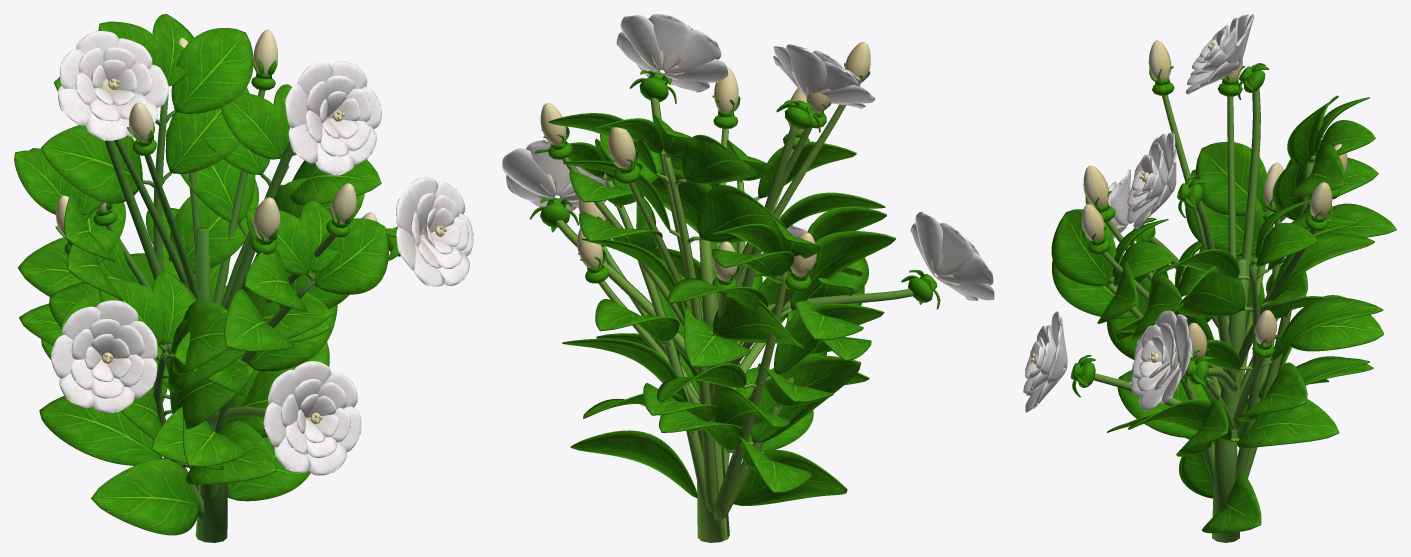
Rendered from NP_Jasmine_Ready.fbx.
3 views of the same model, side by side, from view 1: azimuth 30°, elevation 25°; view 2: azimuth 150°, elevation 25°; view 3: azimuth 270°, elevation 25° (orthographic). The views are drawn at different scales.
Parts seen in each view (by area): view 1: NP_Jasmine_Ready; view 2: NP_Jasmine_Ready; view 3: NP_Jasmine_Ready.
Boxes of the visible parts, left/top/right/bottom form: NP_Jasmine_Ready: left=14, top=14, right=473, bottom=542; NP_Jasmine_Ready: left=502, top=14, right=994, bottom=542; NP_Jasmine_Ready: left=1023, top=14, right=1396, bottom=542.
Size of the model in its own units: 61.62 by 67.94 by 48.41.
